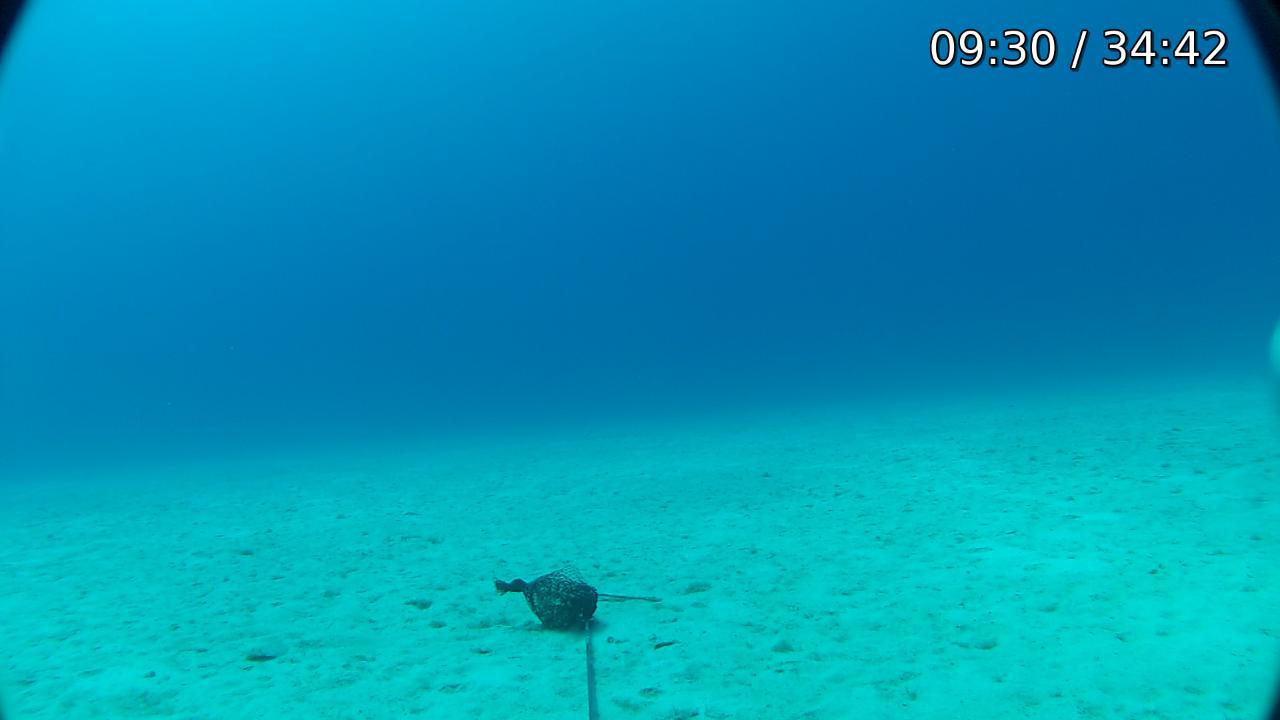bothus: (245, 632, 282, 664)
